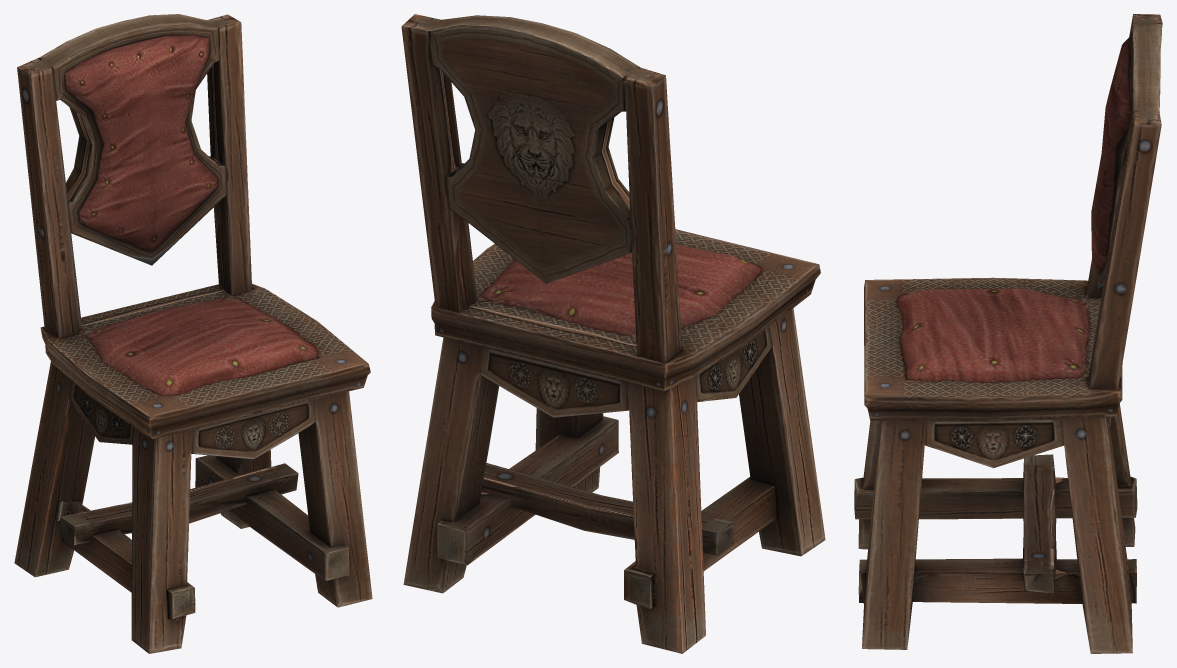
The model's file is Chair1.FBX.
3 views of the same model, side by side, from view 1: azimuth 30°, elevation 25°; view 2: azimuth 150°, elevation 25°; view 3: azimuth 270°, elevation 25° (orthographic). The views are drawn at different scales.
Parts seen in each view (by area): view 1: default; view 2: default; view 3: default.
Part boxes in pixels (x1,y1,x2,y2): default: [14, 14, 372, 653]; default: [401, 14, 825, 653]; default: [854, 14, 1162, 653].
Bounding box in the file's own units: 0.9839 × 2 × 1.03.
